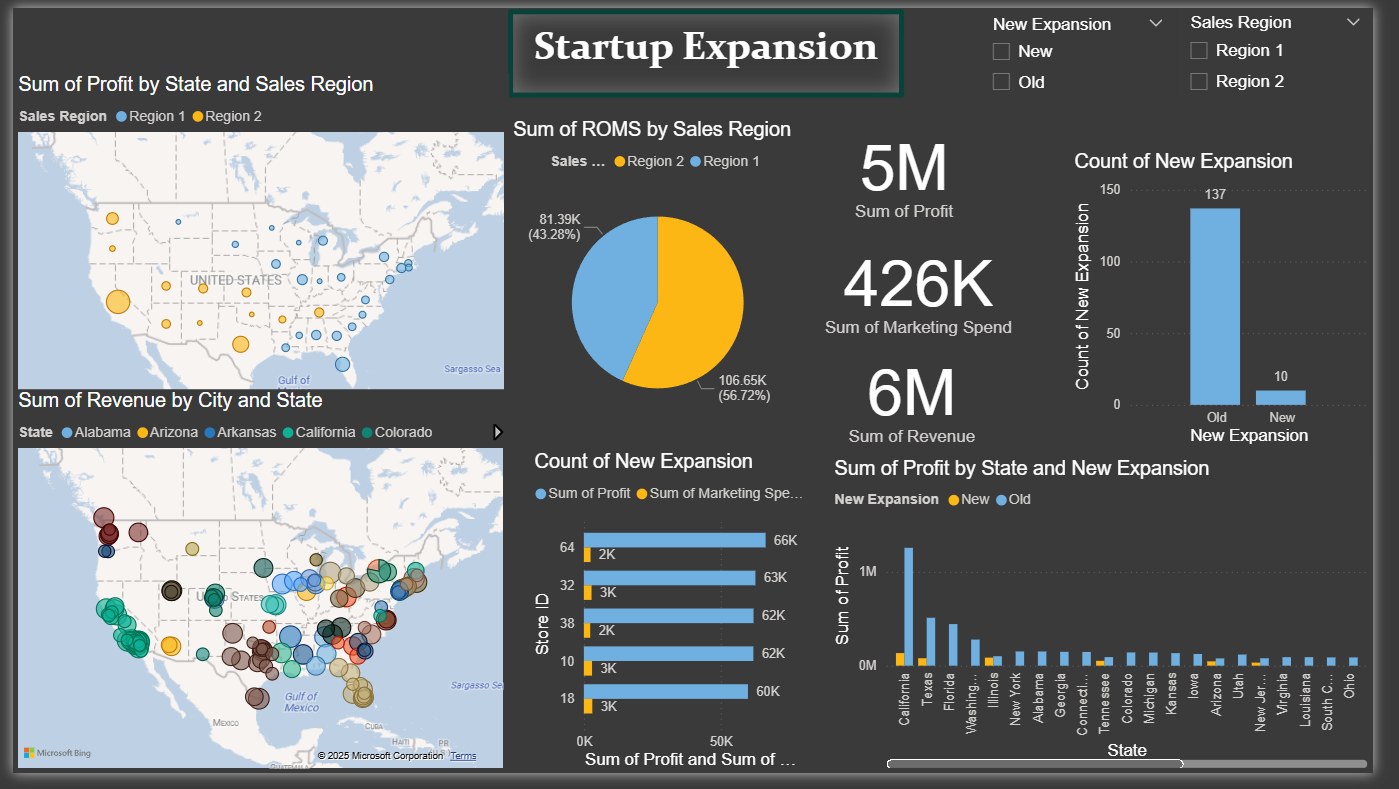

The page's visual inventory and layout, read from the dashboard file:
{"tool":"powerbi","page":{"name":"overview","canvas":[1280,720],"ordinal":0},"visuals":[{"type":"textbox","box":[466.3,1.2,373,83.4],"z":0},{"type":"map","fields":{"Category":["startupsexpansionmodified.State"],"Size":["Sum(startupsexpansionmodified.Profit)"],"Series":["startupsexpansionmodified.Sales Region"]},"box":[0,61.7,466.6,360.9],"z":1000},{"type":"map","fields":{"Category":["startupsexpansionmodified.City"],"Size":["Sum(startupsexpansionmodified.Revenue)"],"Series":["startupsexpansionmodified.State"]},"box":[0,358.3,466.3,362],"z":2000},{"type":"clusteredBarChart","title":"Count of New Expansion","fields":{"Category":["startupsexpansionmodified.Store ID"],"Y":["Sum(startupsexpansionmodified.Profit)","Sum(startupsexpansionmodified.Marketing Spend)"]},"box":[485.9,416,268.7,304.3],"z":3000},{"type":"pieChart","fields":{"Category":["startupsexpansionmodified.Sales Region"],"Y":["Sum(startupsexpansionmodified.ROMS)"]},"box":[466.3,103.1,282.2,296.9],"z":4000},{"type":"card","fields":{"Values":["Sum(startupsexpansionmodified.Profit)"]},"box":[754.6,103.1,169.3,101.8],"z":5000},{"type":"card","fields":{"Values":["Sum(startupsexpansionmodified.Marketing Spend)"]},"box":[754.6,204.9,196.3,117.8],"z":6000},{"type":"card","fields":{"Values":["Sum(startupsexpansionmodified.Revenue)"]},"box":[768.1,321.5,155.8,100.6],"z":7000},{"type":"clusteredColumnChart","fields":{"Series":["startupsexpansionmodified.New Expansion"],"Category":["startupsexpansionmodified.State"],"Y":["Sum(startupsexpansionmodified.Profit)"]},"box":[768.1,422.1,511.7,298.2],"z":8000},{"type":"slicer","fields":{"Values":["startupsexpansionmodified.New Expansion"]},"box":[909.8,1.4,185.2,87.8],"z":8001},{"type":"slicer","fields":{"Values":["startupsexpansionmodified.Sales Region"]},"box":[1095,0,185.2,89.2],"z":8002},{"type":"columnChart","title":"Count of New Expansion","fields":{"Y":["CountNonNull(startupsexpansionmodified.New Expansion)"],"Category":["startupsexpansionmodified.New Expansion"]},"box":[993.9,133.7,285.9,282.2],"z":8003}]}

Visuals, with their boxes in screenshot pixels (x1, y1, x2, y2), scaled from the page's 1280x720 canvas onto the 1399x789 screenshot:
textbox: box=[510, 1, 917, 93]
map - startupsexpansionmodified.State x Sum(startupsexpansionmodified.Profit): box=[0, 68, 510, 463]
map - startupsexpansionmodified.City x Sum(startupsexpansionmodified.Revenue): box=[0, 393, 510, 788]
"Count of New Expansion" clusteredBarChart: box=[531, 456, 825, 788]
pieChart - startupsexpansionmodified.Sales Region x Sum(startupsexpansionmodified.ROMS): box=[510, 113, 818, 438]
card - Sum(startupsexpansionmodified.Profit): box=[825, 113, 1010, 225]
card - Sum(startupsexpansionmodified.Marketing Spend): box=[825, 225, 1039, 354]
card - Sum(startupsexpansionmodified.Revenue): box=[840, 352, 1010, 463]
clusteredColumnChart - startupsexpansionmodified.New Expansion x startupsexpansionmodified.State: box=[840, 463, 1398, 788]
slicer - startupsexpansionmodified.New Expansion: box=[994, 2, 1197, 98]
slicer - startupsexpansionmodified.Sales Region: box=[1197, 0, 1398, 98]
"Count of New Expansion" columnChart: box=[1086, 147, 1398, 456]
